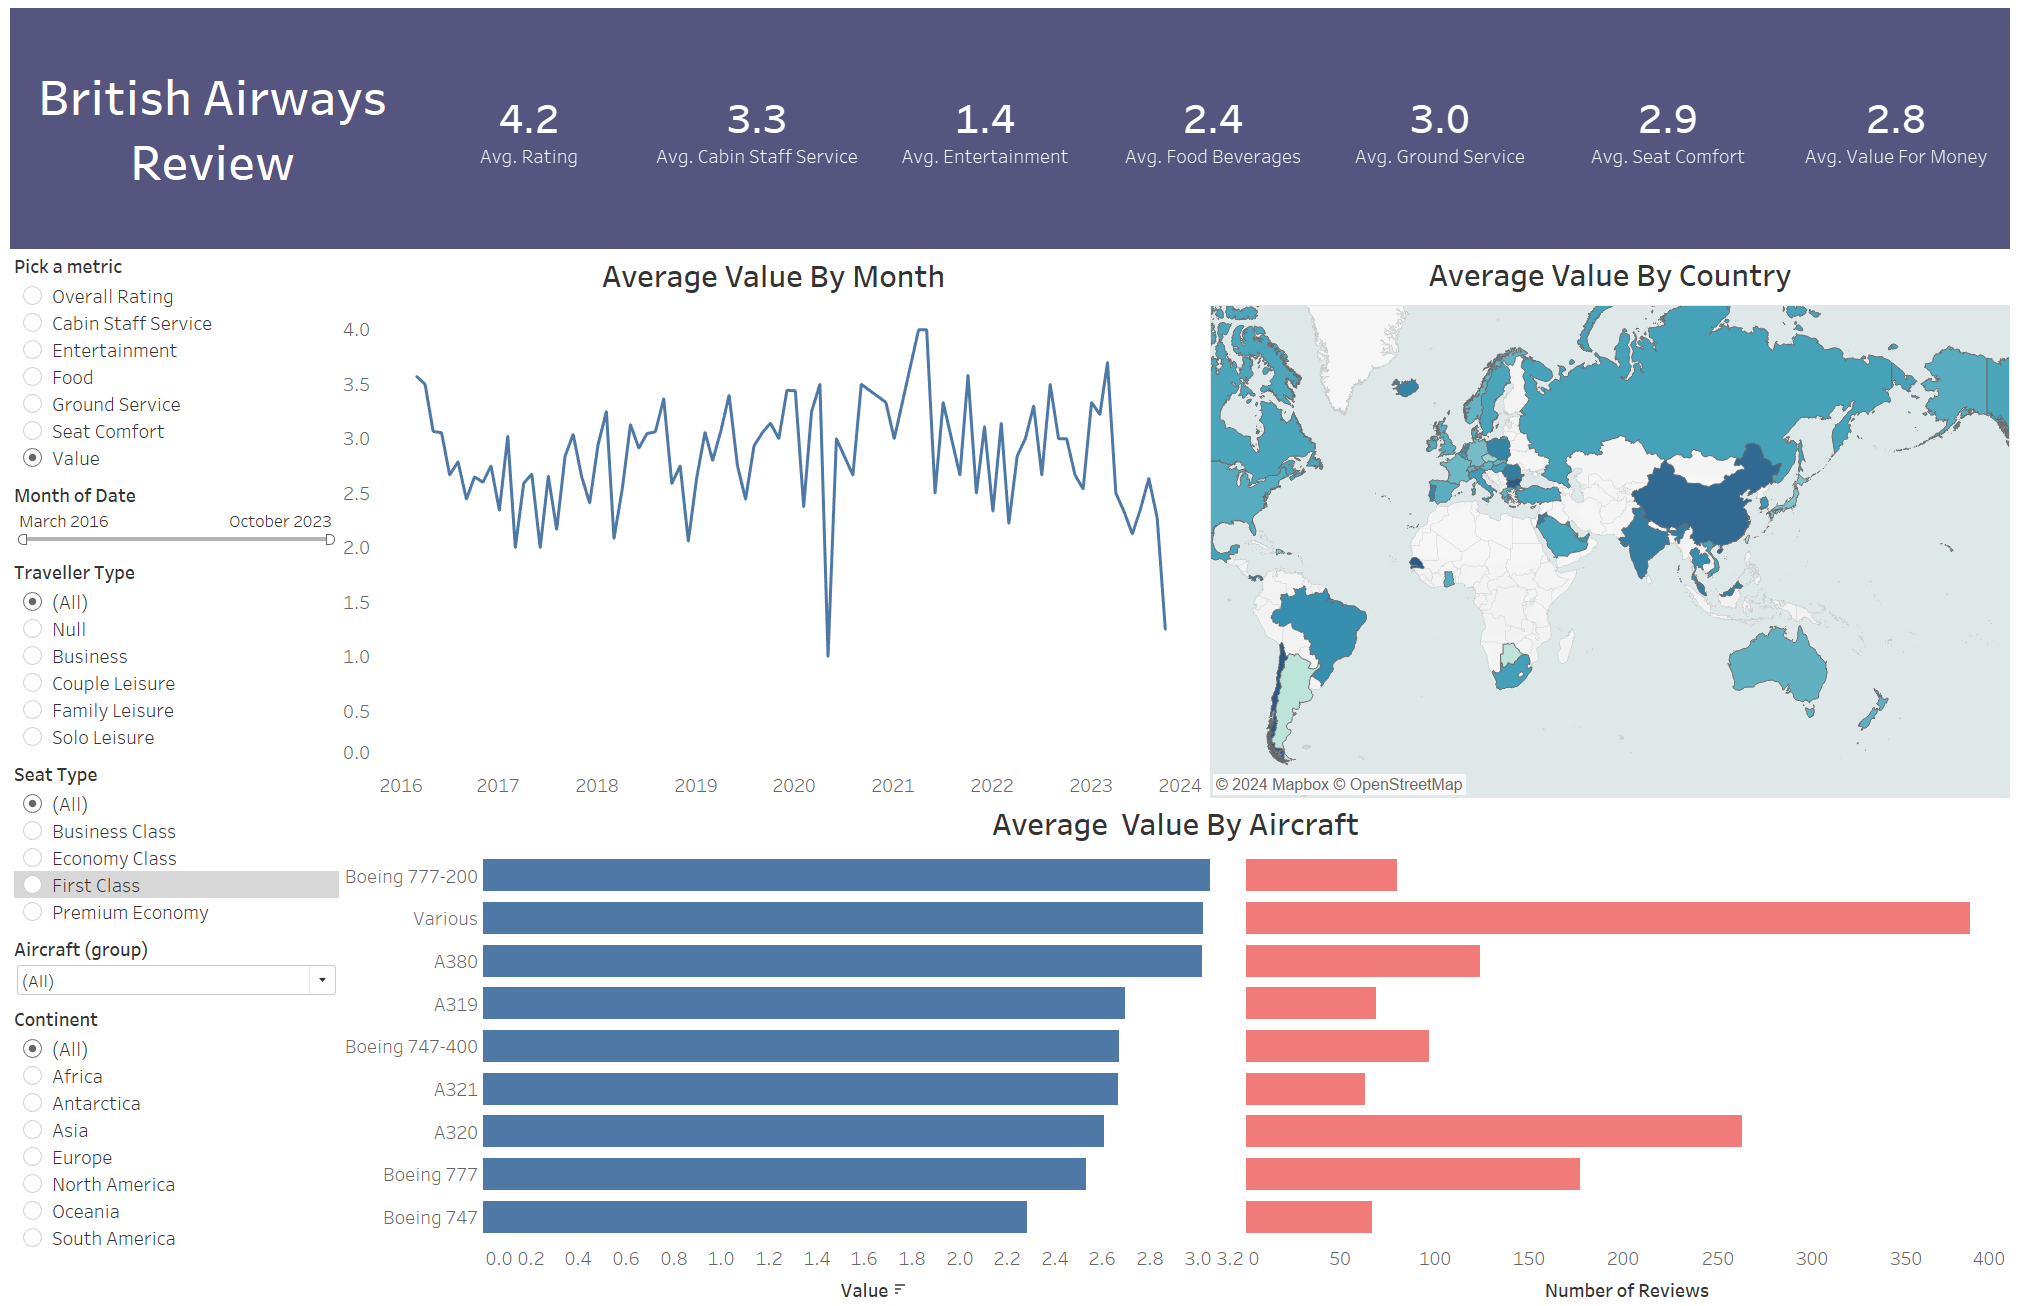

The dashboard page shown, as its layout file describes it:
{"tool":"tableau","page":{"name":"Dashboard 1","canvas":[2000,1300],"ordinal":0},"visuals":[{"type":"text","box":[0,0,405,241.4]},{"type":"worksheet","title":"Summary","mark":"Automatic","box":[405,0,1595,241.4]},{"type":"worksheet","title":"Map","mark":"Automatic","box":[1200,240.5,800,549.2]},{"type":"parameter","param":"[Parameters].[Parameter 1]","box":[0,241.4,333.3,229]},{"type":"worksheet","title":"Month","mark":"Automatic","rows":["Calculation_2164824101513883648"],"cols":["date"],"box":[333,241.6,861,547.1]},{"type":"filter","title":"Map","param":"[federated.0cbydtf1mra1tz18g4dsa1sxywft].[tmn:date:qk]","box":[0,470.4,333.3,77]},{"type":"filter","title":"Map","param":"[federated.0cbydtf1mra1tz18g4dsa1sxywft].[none:traveller_type:nk]","box":[0,547.4,333.3,202]},{"type":"filter","title":"Map","param":"[federated.0cbydtf1mra1tz18g4dsa1sxywft].[none:seat_type:nk]","box":[0,749.4,333.3,175]},{"type":"worksheet","title":"Aircraft","mark":"Automatic","cols":["Calculation_2164824101513883648","ba_reviews.csv_ACCB6690095244A0837AC91DF6F37681"],"box":[333,789.8,1665,511.3]},{"type":"filter","title":"Map","param":"[federated.0cbydtf1mra1tz18g4dsa1sxywft].[Aircraft (group)]","box":[0,924.4,333.3,70]},{"type":"filter","title":"Map","param":"[federated.0cbydtf1mra1tz18g4dsa1sxywft].[none:Continent:nk]","box":[0,994.4,333.3,256]}]}

Visuals, with their boxes in screenshot pixels (x1, y1, x2, y2), scaled from the page's 2000x1300 canvas onto the 2020x1306 screenshot:
text: (0,0,409,243)
"Summary" worksheet: (409,0,2019,243)
"Map" worksheet: (1212,242,2019,793)
parameter: (0,243,337,473)
"Month" worksheet: (336,243,1206,792)
"Map" filter: (0,473,337,550)
"Map" filter: (0,550,337,753)
"Map" filter: (0,753,337,929)
"Aircraft" worksheet: (336,793,2018,1305)
"Map" filter: (0,929,337,999)
"Map" filter: (0,999,337,1256)
